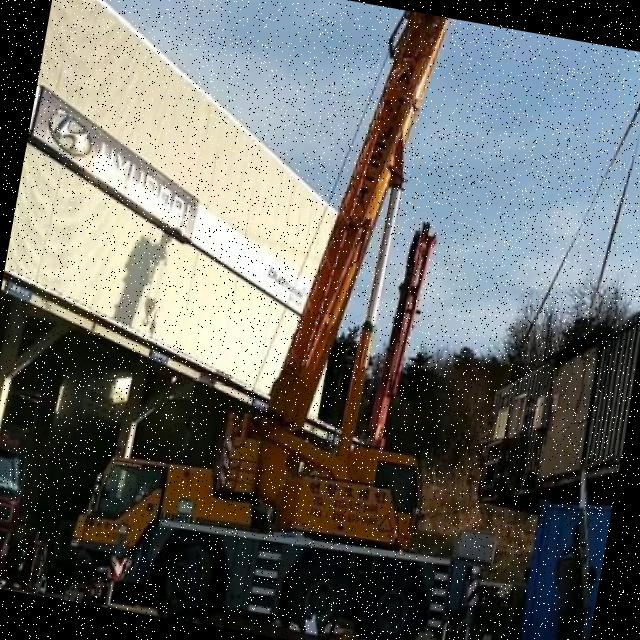Mobile Crane: (55, 0, 540, 640)
